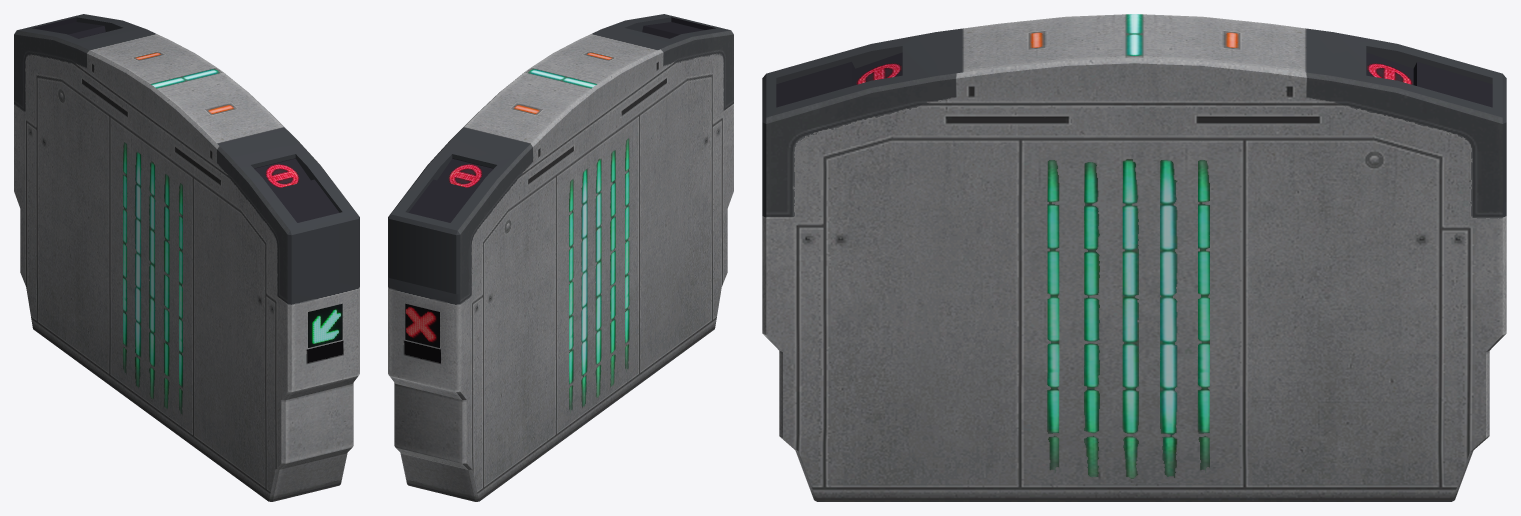
Rendered from Tourniquet01a.FBX.
The picture shows the model from 3 angles, left to right: view 1: azimuth 30°, elevation 25°; view 2: azimuth 150°, elevation 25°; view 3: azimuth 270°, elevation 25°; orthographic projection. The views are drawn at different scales.
Parts seen in each view (by area): view 1: Tourniquet01a; view 2: Tourniquet01a; view 3: Tourniquet01a.
Part boxes in pixels (x1,y1,x2,y2): Tourniquet01a: (14,14,359,501); Tourniquet01a: (388,14,733,501); Tourniquet01a: (762,14,1506,501).
Size of the model in its own units: 293 by 1272 by 1940.
